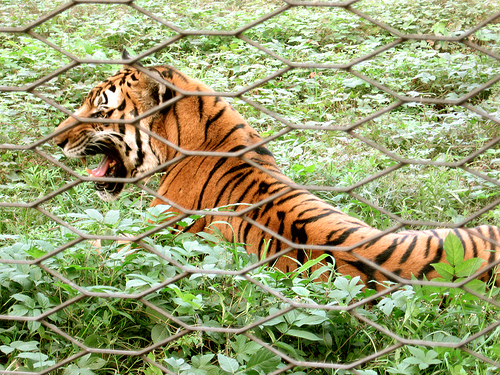Tigre: (40, 55, 500, 304)
